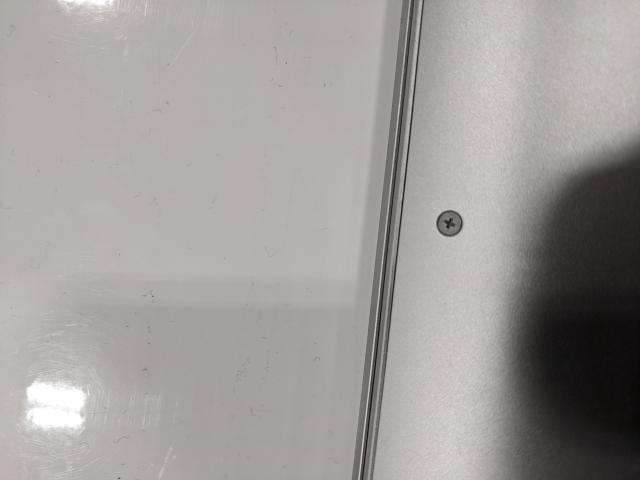CRS: (436, 210, 463, 236)
